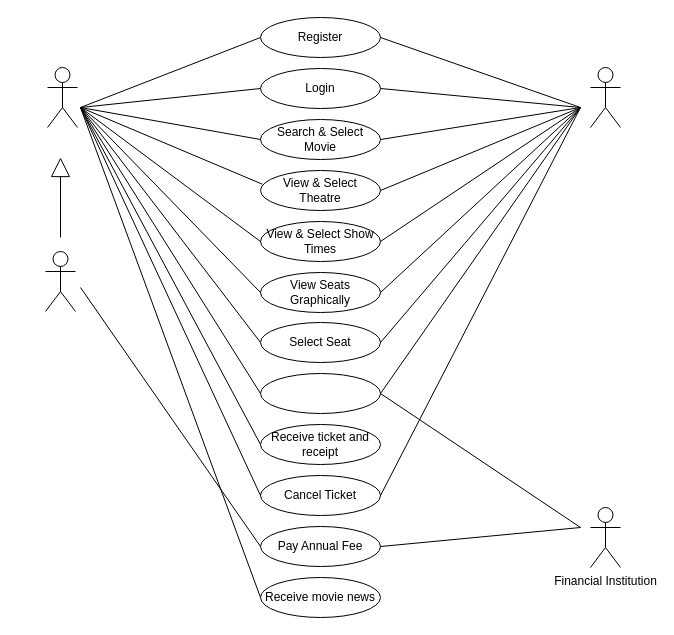
The diagram is 674 pixels wide and 635 high, and some of its shapes have lost their labels. Each missing label, with the centre of its shape:
"Database" goes at (605,97).
"Make Payment" goes at (320,393).
"Registered User" goes at (60,281).
"User" goes at (62,97).
